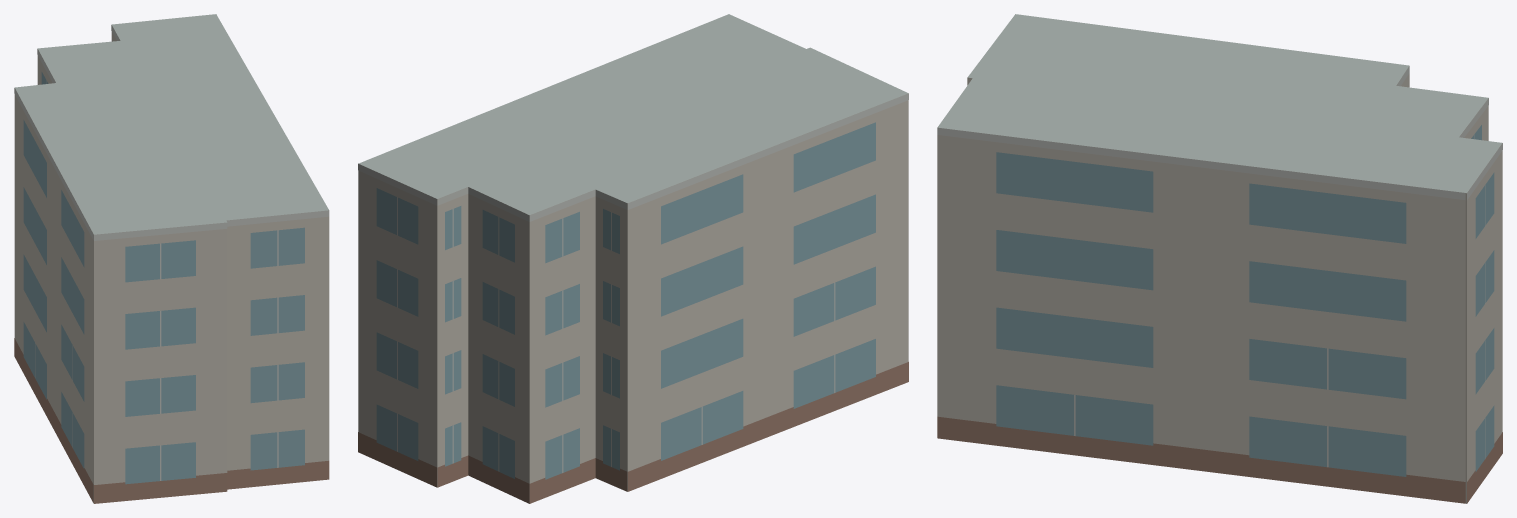
Rendered from survey-upis-32907830.glb.
3 views of the same model, side by side, from view 1: azimuth 30°, elevation 25°; view 2: azimuth 150°, elevation 25°; view 3: azimuth 270°, elevation 25° (orthographic). The views are drawn at different scales.
Parts seen in each view (by area): view 1: survey-upis-32907830.tmp; view 2: survey-upis-32907830.tmp; view 3: survey-upis-32907830.tmp.
Part boxes in pixels (left/top/right/bottom): survey-upis-32907830.tmp: left=14, top=14, right=329, bottom=503; survey-upis-32907830.tmp: left=358, top=14, right=908, bottom=503; survey-upis-32907830.tmp: left=937, top=14, right=1502, bottom=503.
Bounding box in the file's own units: 12.87 × 10.4 × 17.16.
